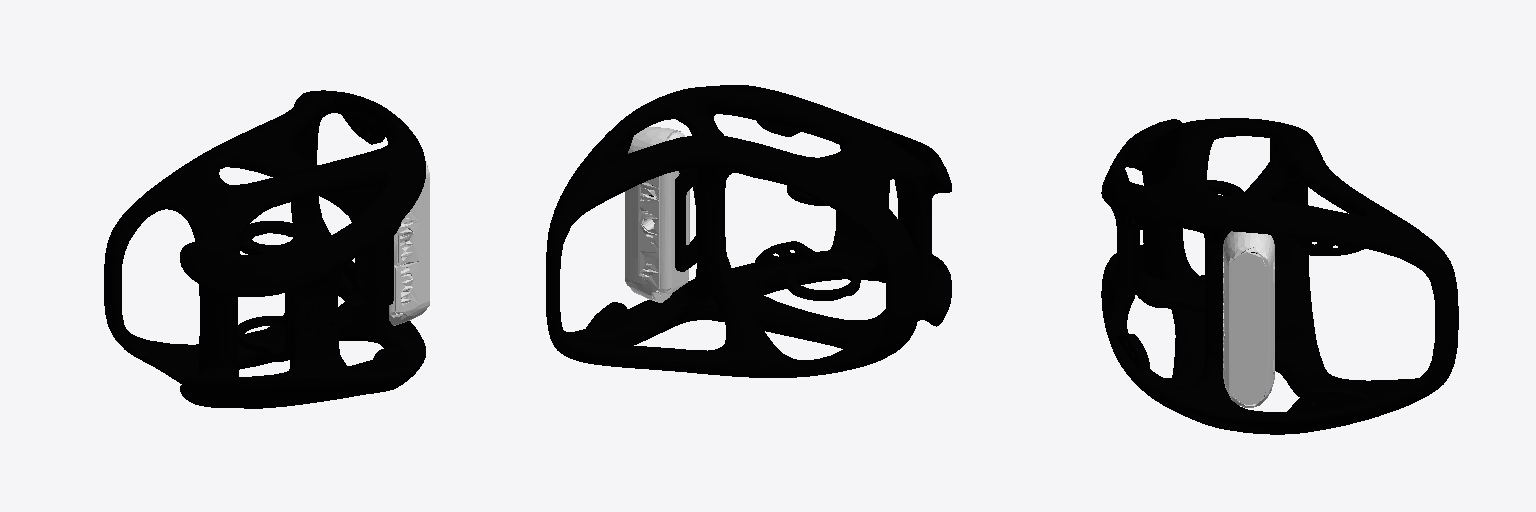
The model's file is head_pitch_link.obj.
3 views of the same model, side by side, from view 1: azimuth 30°, elevation 25°; view 2: azimuth 150°, elevation 25°; view 3: azimuth 270°, elevation 25° (orthographic).
Visible parts, largest first — view 1: head_pitch_link; view 2: head_pitch_link; view 3: head_pitch_link.
Part boxes in pixels (bbox=[...]): head_pitch_link: bbox=[104, 90, 429, 408]; head_pitch_link: bbox=[546, 85, 951, 377]; head_pitch_link: bbox=[1101, 118, 1458, 434].
Bounding box in the file's own units: 0.1635 × 0.1236 × 0.17.